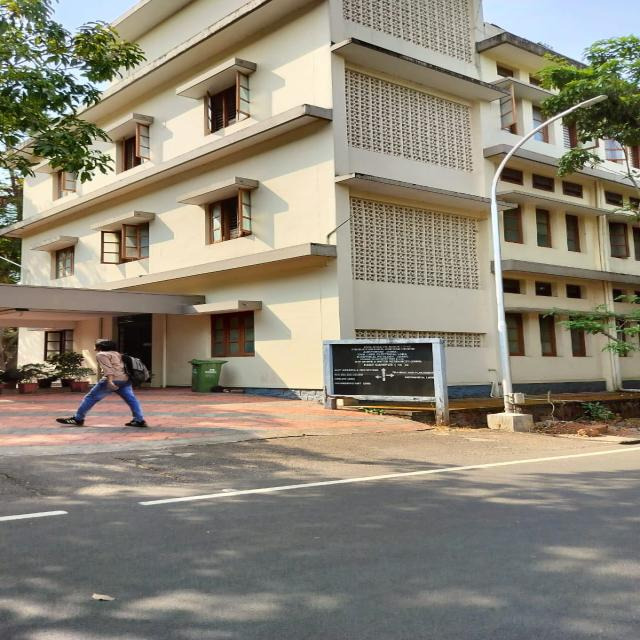person ahead at: (69, 336, 161, 432)
